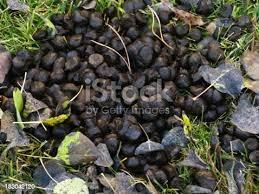Elk: (18, 19, 258, 161)
